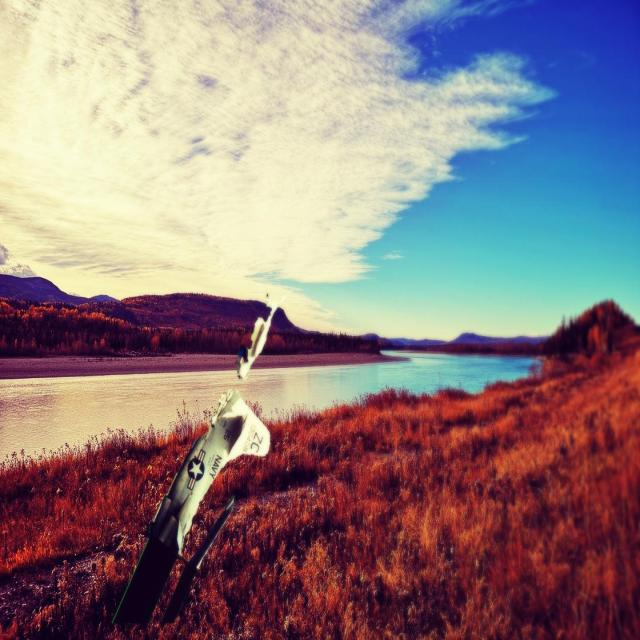airplane: (110, 387, 270, 626), (234, 292, 286, 379)
